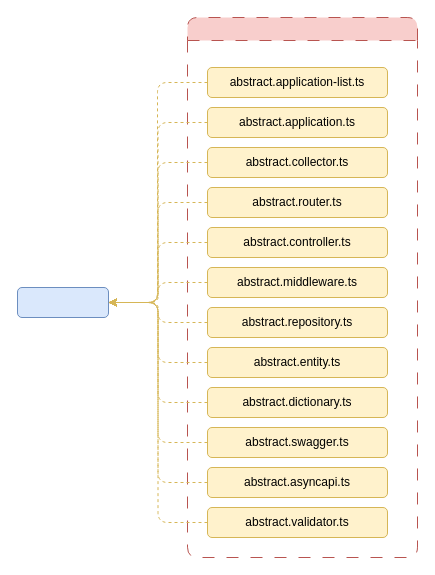
The diagram is 435 pixels wide and 575 high, and some of its shapes have lost their labels. Here are the shapes that lost their labels. From the top down, the box of each, then its label:
(16, 286, 108, 318): index.ts
(186, 16, 418, 558): Abstract documents
